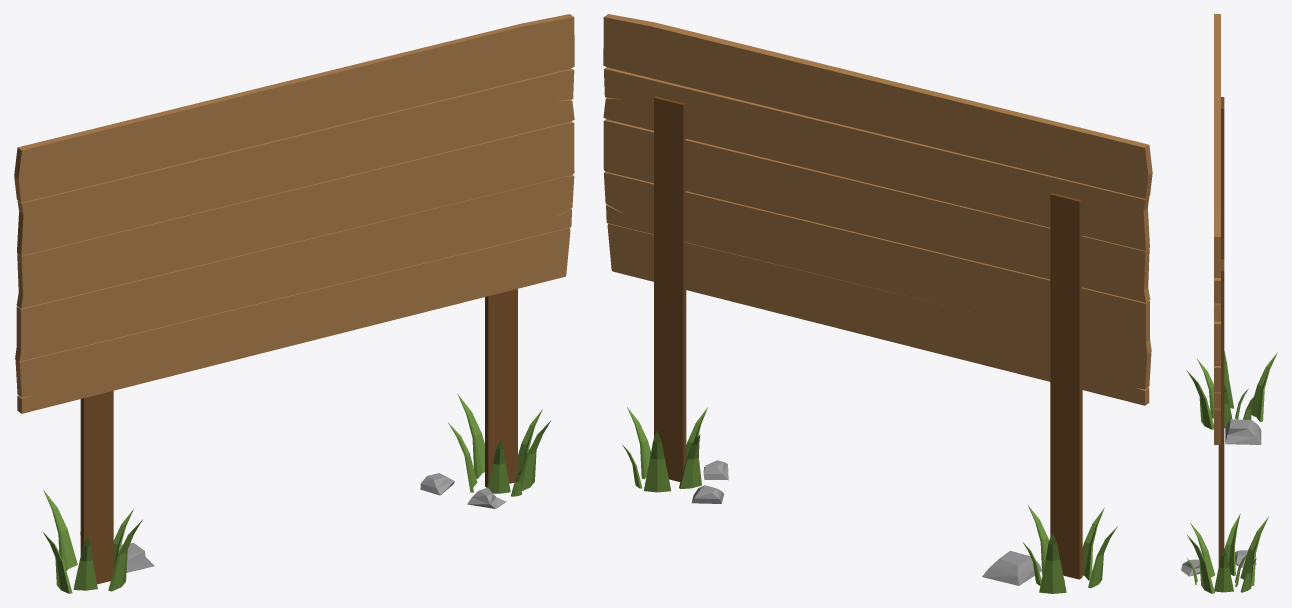
Rendered from sign.glb.
The picture shows the model from 3 angles, left to right: view 1: azimuth 30°, elevation 25°; view 2: azimuth 150°, elevation 25°; view 3: azimuth 270°, elevation 25°; orthographic projection. The views are drawn at different scales.
Visible parts, largest first — view 1: Sign12; view 2: Sign12; view 3: Sign12.
Boxes of the visible parts, box(x1,y1,x2,y2) form: Sign12: box(14, 14, 574, 593); Sign12: box(603, 14, 1152, 593); Sign12: box(1181, 14, 1277, 593).
Bounding box in the file's own units: 2.99 × 2.35 × 0.5488.
